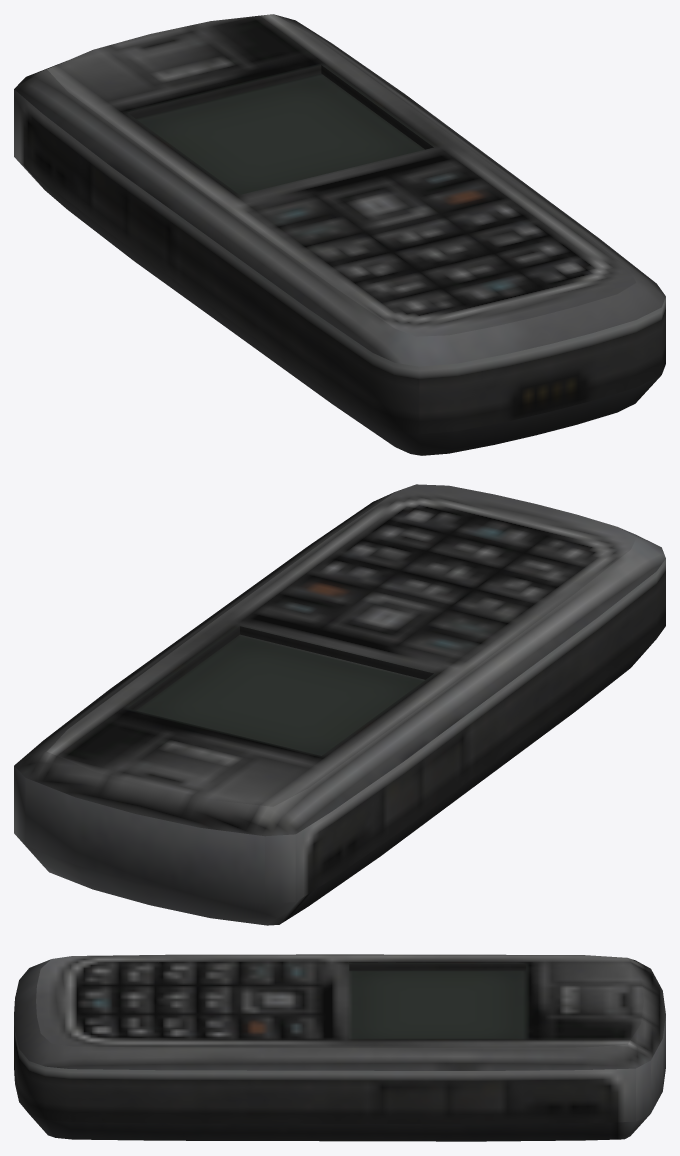
The model's file is cell_phone_3.obj.
3 views of the same model, one above another, from view 1: azimuth 30°, elevation 25°; view 2: azimuth 150°, elevation 25°; view 3: azimuth 270°, elevation 25° (orthographic). The views are drawn at different scales.
Parts seen in each view (by area): view 1: cell_phone_3; view 2: cell_phone_3; view 3: cell_phone_3.
Boxes of the visible parts, <box> form: cell_phone_3: <box>14,14,665,455</box>; cell_phone_3: <box>14,484,665,925</box>; cell_phone_3: <box>14,954,665,1141</box>.
Size of the model in its own units: 0.0912 by 0.035 by 0.2222.
